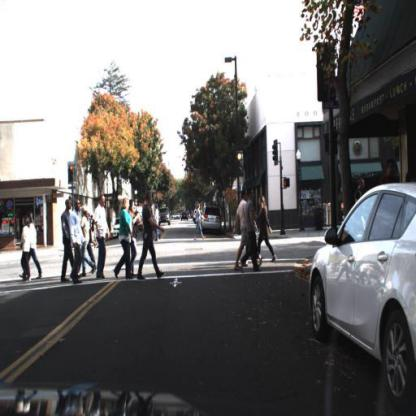car: (310, 182, 416, 398), (202, 203, 224, 236), (204, 208, 222, 236), (158, 206, 172, 226), (112, 217, 122, 240)
pedestrian: (240, 191, 262, 273), (256, 192, 277, 267), (95, 192, 110, 283), (25, 211, 44, 279), (118, 199, 133, 282), (61, 200, 75, 287), (232, 189, 246, 276), (143, 192, 156, 284), (71, 198, 83, 284), (260, 192, 274, 262), (235, 191, 247, 270), (97, 195, 108, 276), (20, 214, 32, 284), (83, 204, 93, 276), (132, 197, 141, 274), (193, 203, 205, 243), (356, 174, 367, 207), (90, 223, 94, 280)
trafficLight-Red: (69, 161, 78, 189), (236, 153, 244, 179)
